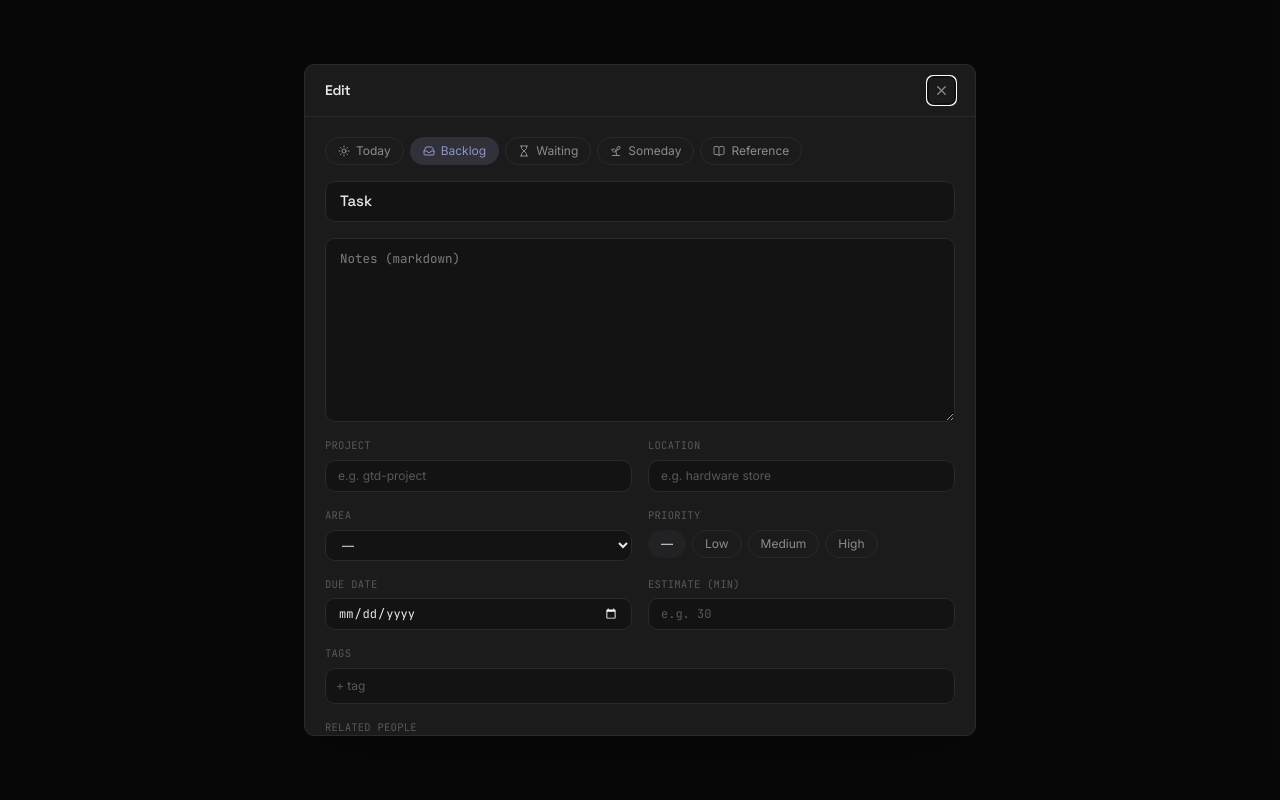
it: estimate saving (regression: modal stayed dirty after save) › persists the new estimate and leaves the modal clean after saving
The image size is (1280, 800).
Type "30" into the number field with placeholder "e.g. 30" at (802, 614), box [648,598,955,630]
(page scrolled)
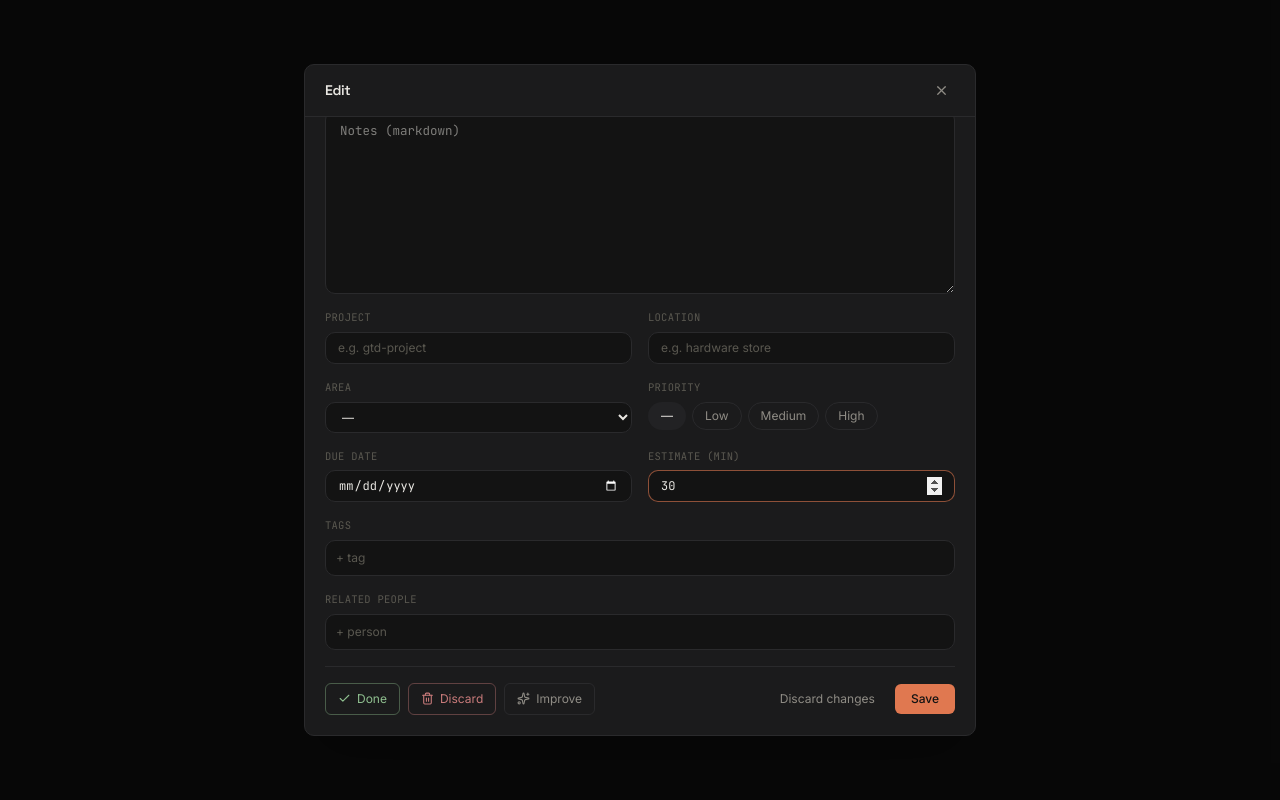
Check: the button "Discard changes" is shown, box [768,684,887,714]
Click the button "Save" at (925, 699), box [895,684,955,714]
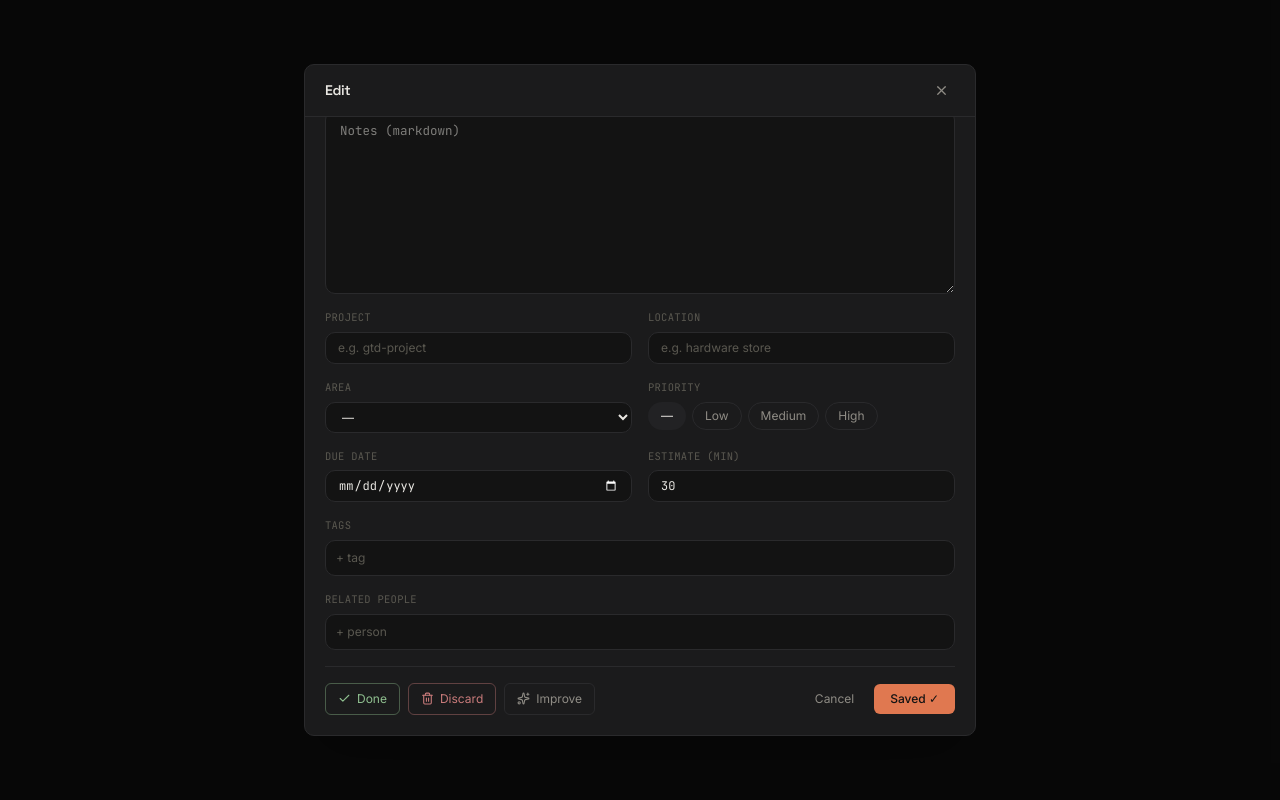
Check: the button "Saved ✓" is shown, box [874,684,955,714]
Check: the button "Cancel" is shown, box [803,684,866,714]
Check: the button "Discard changes" is gone
